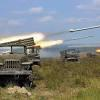MIL_SAM_TEL: (0, 37, 37, 87)
